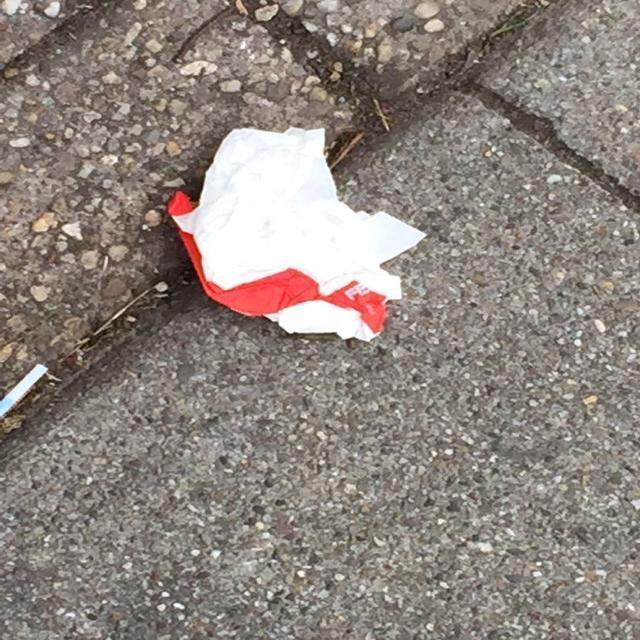Paper: (164, 122, 428, 344)
